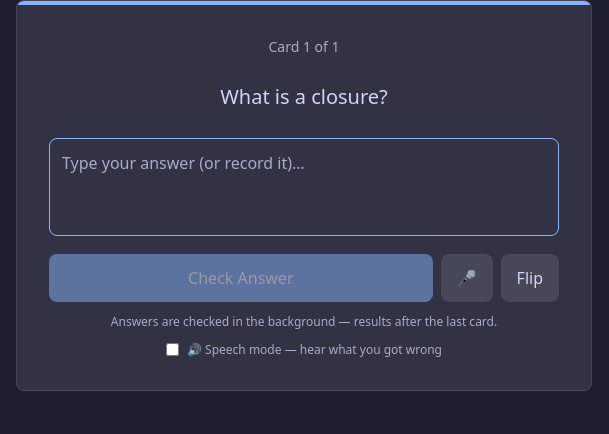
ReviewSession › retiring from the rating slide › stays on the card when the retire fails
The width and height of the screenshot is (609, 434).
expect the text "What is a closure?" is shown: met, box x1=220 y1=83 x2=388 y2=110
Click the button "Flip".
click(530, 278)  # box x1=501 y1=254 x2=559 y2=302
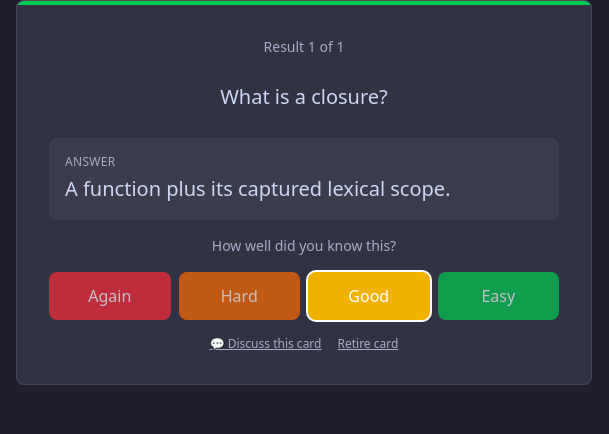
Click the button "Retire card".
click(368, 344)  # box x1=338 y1=336 x2=398 y2=352
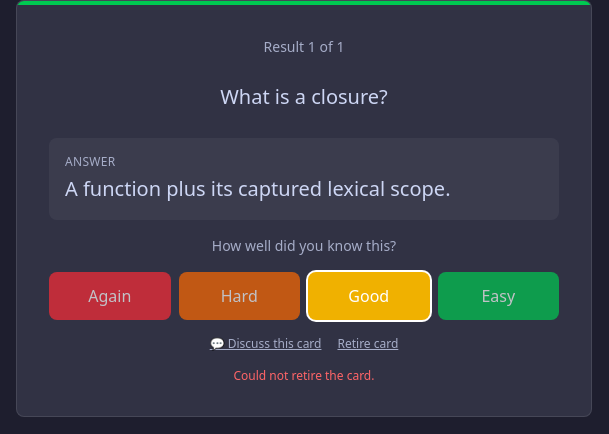
expect the text "Result 1 of 1" is shown: met, box x1=264 y1=37 x2=344 y2=56
expect the text "Could not retire the card." is shown: met, box x1=234 y1=366 x2=374 y2=384
